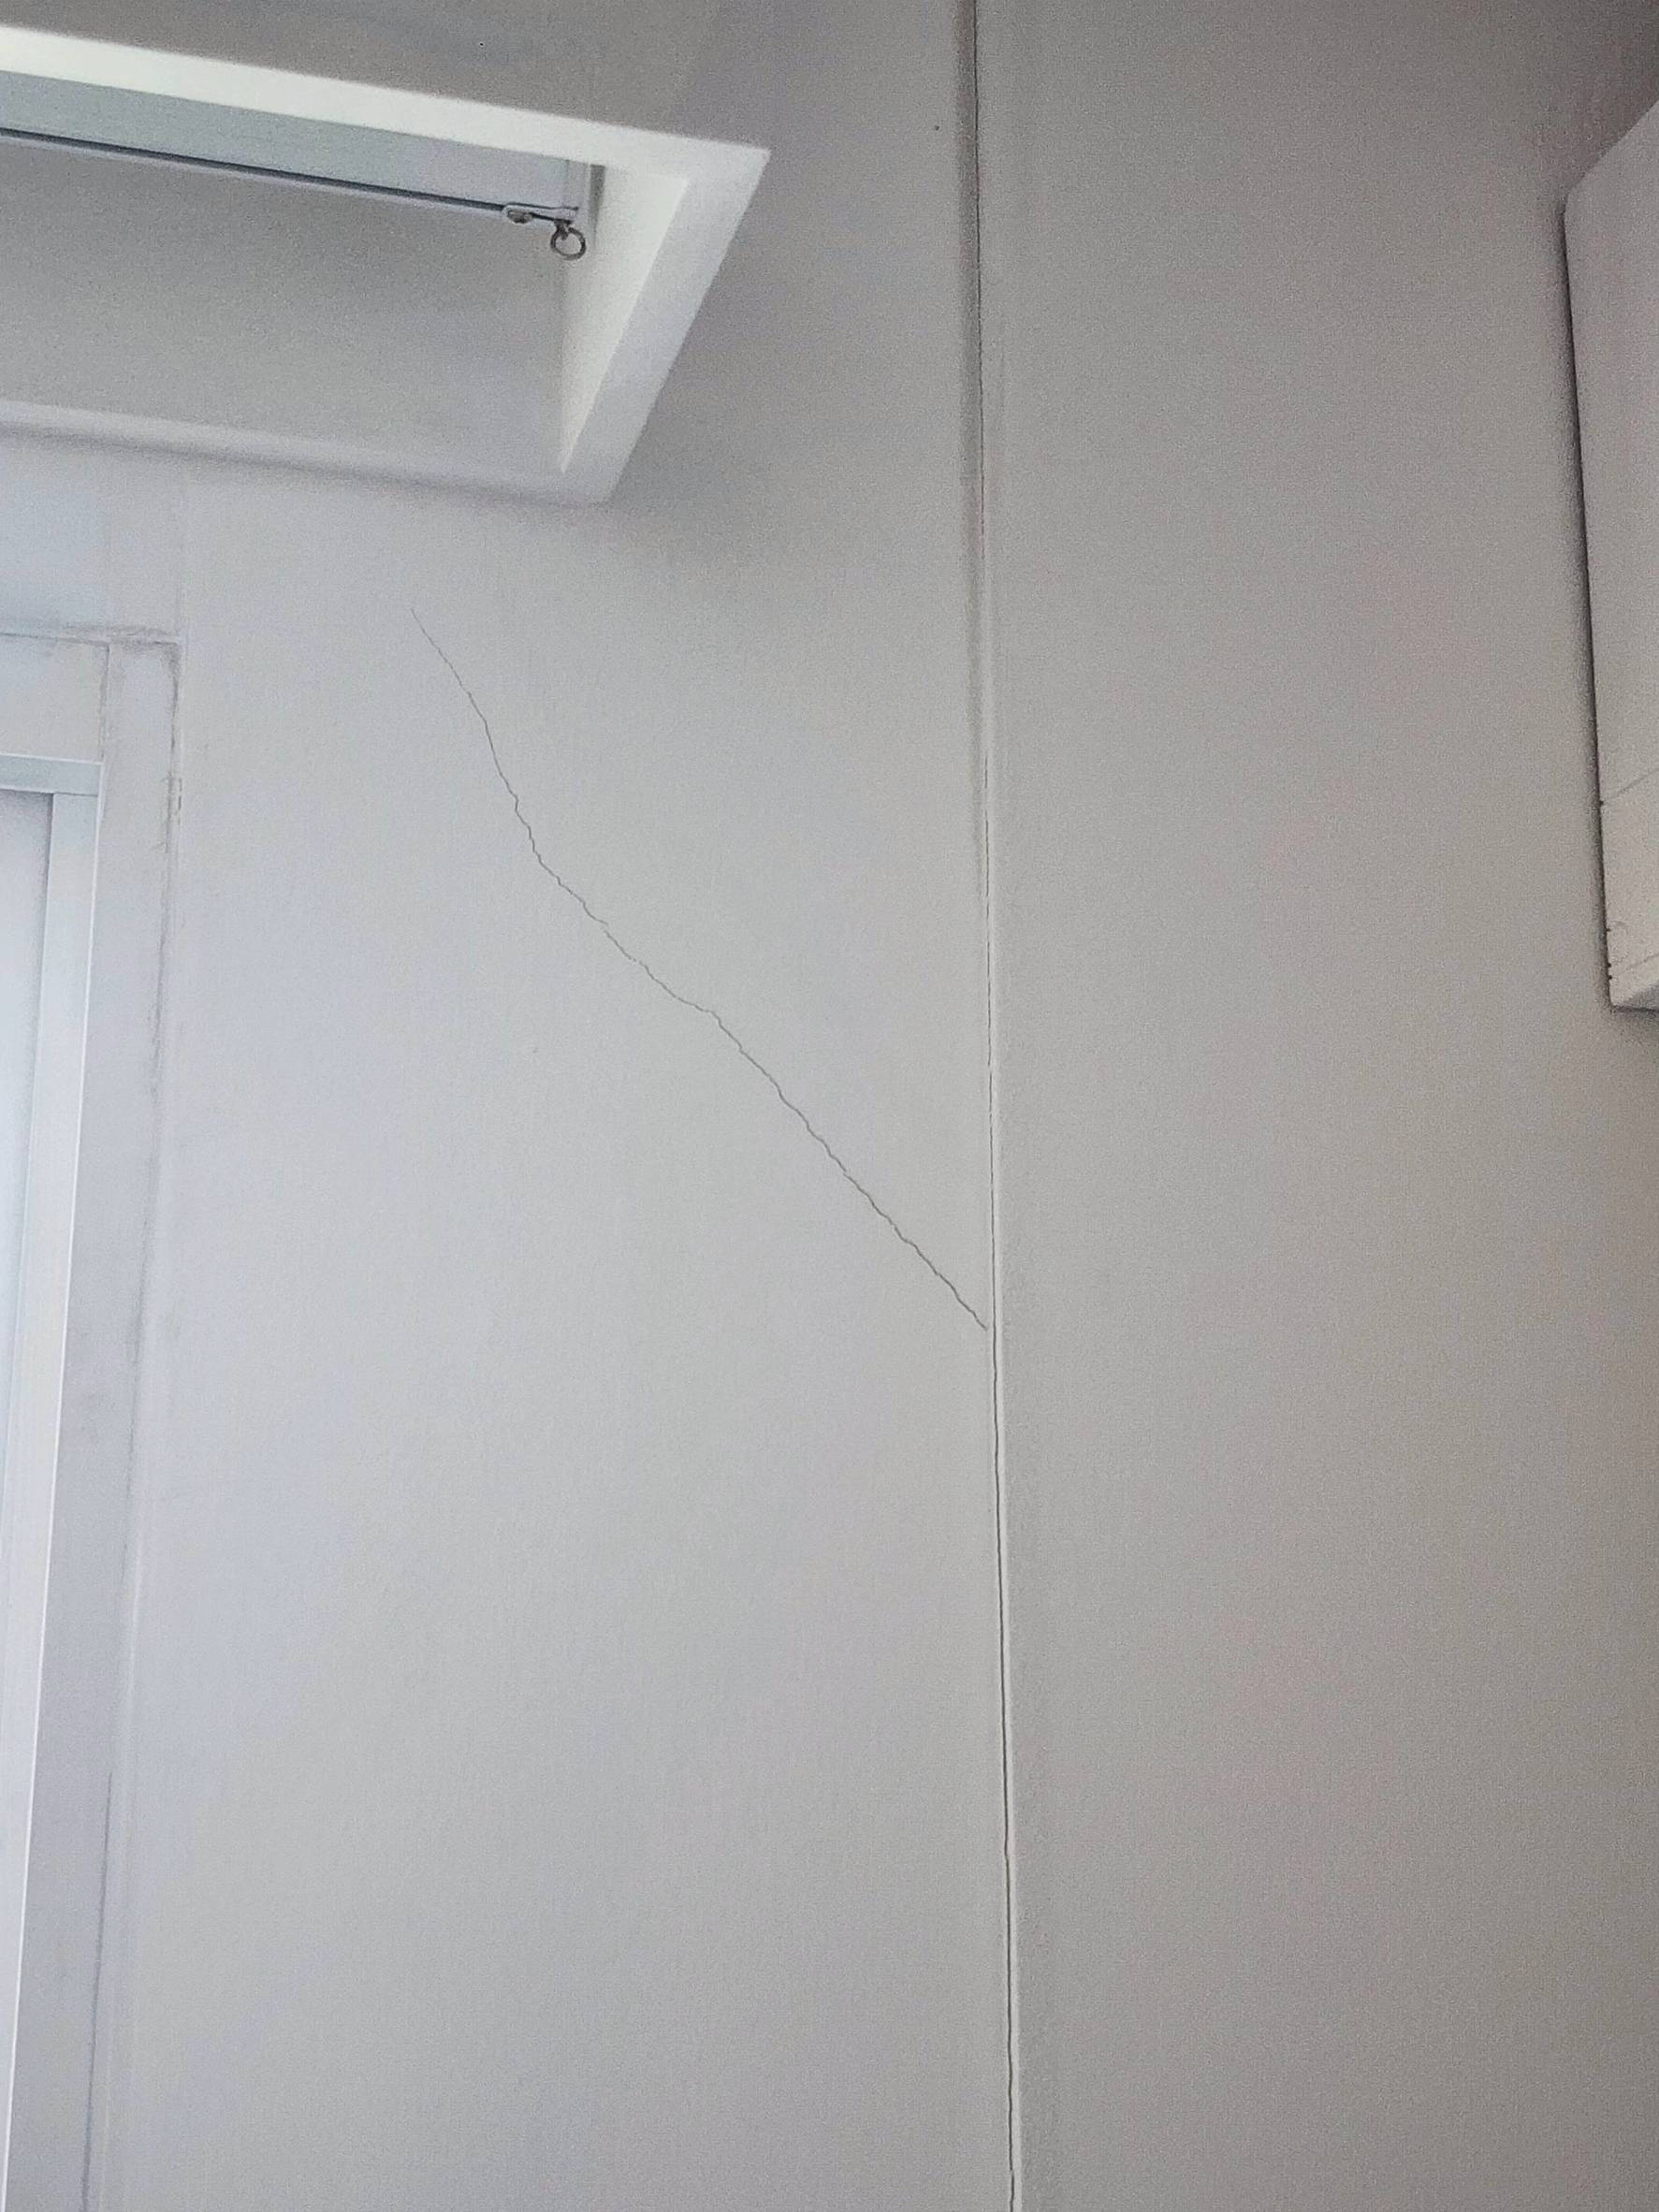Low: (411, 577, 1037, 1430)
